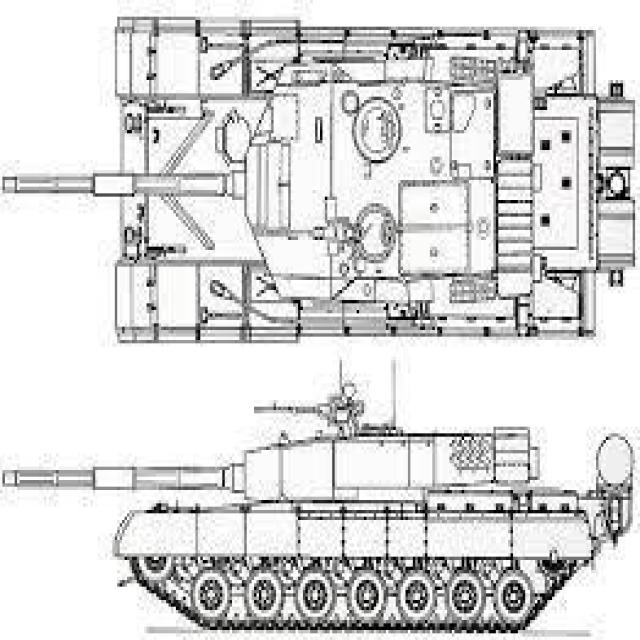Tanks: (8, 10, 620, 363), (9, 368, 624, 628)
